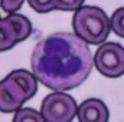N: (30, 31, 92, 90)
